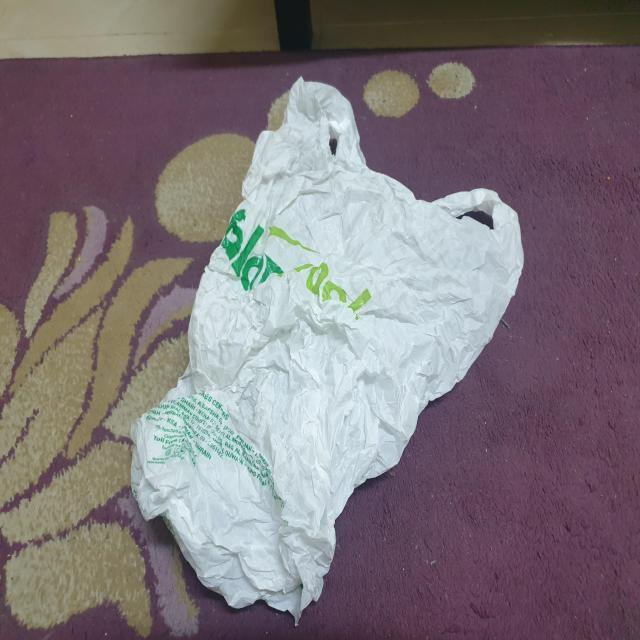plastic bag: (128, 74, 527, 630)
